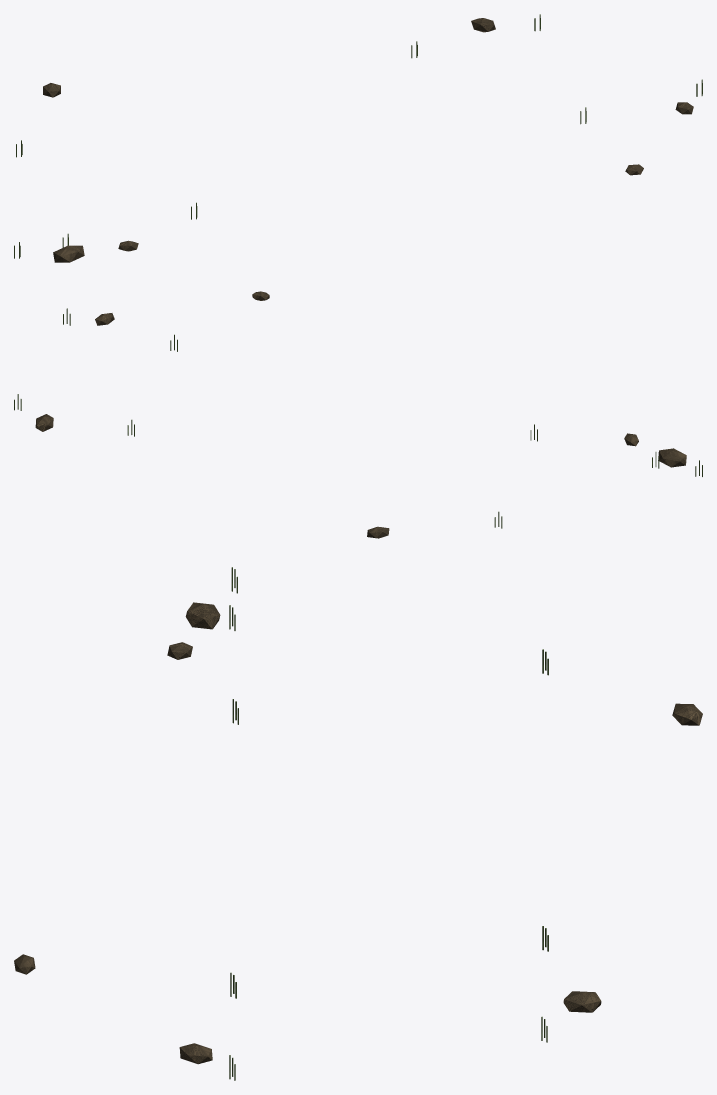
Rendered from riparian_dressing_pack.glb.
3 renders of one model, top to bottom at view 1: azimuth 30°, elevation 25°; view 2: azimuth 150°, elevation 25°; view 3: azimuth 270°, elevation 25°, orthographic. The views are drawn at different scales.
Visible parts, largest first — view 1: riparian_dressing_pack; view 2: riparian_dressing_pack; view 3: riparian_dressing_pack.
Boxes of the visible parts, bbox=[...] form: riparian_dressing_pack: bbox=[14, 14, 702, 262]; riparian_dressing_pack: bbox=[14, 291, 702, 538]; riparian_dressing_pack: bbox=[14, 567, 702, 1080].
Size of the model in its own units: 50.53 by 1.57 by 30.14.
Materials: 1 (1 with a texture image).
